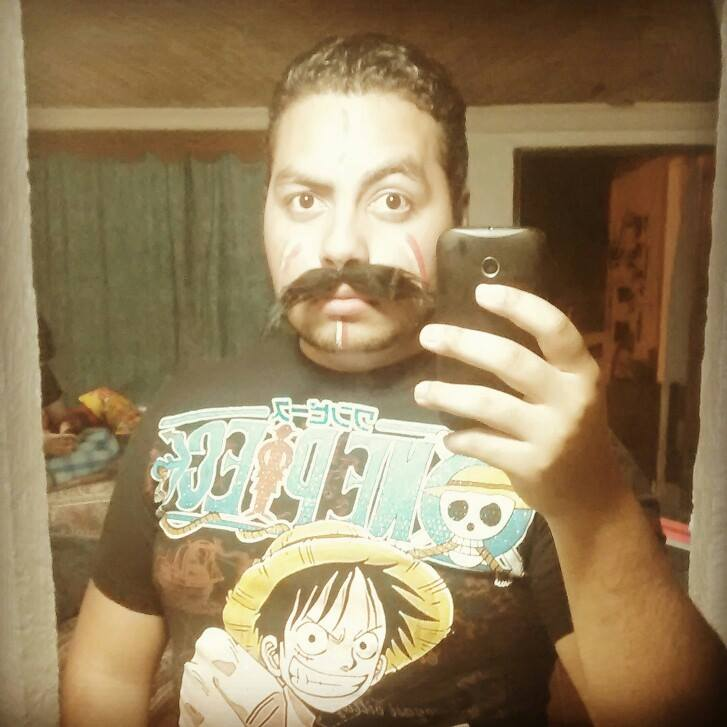Yoshi: (236, 25, 531, 389)
